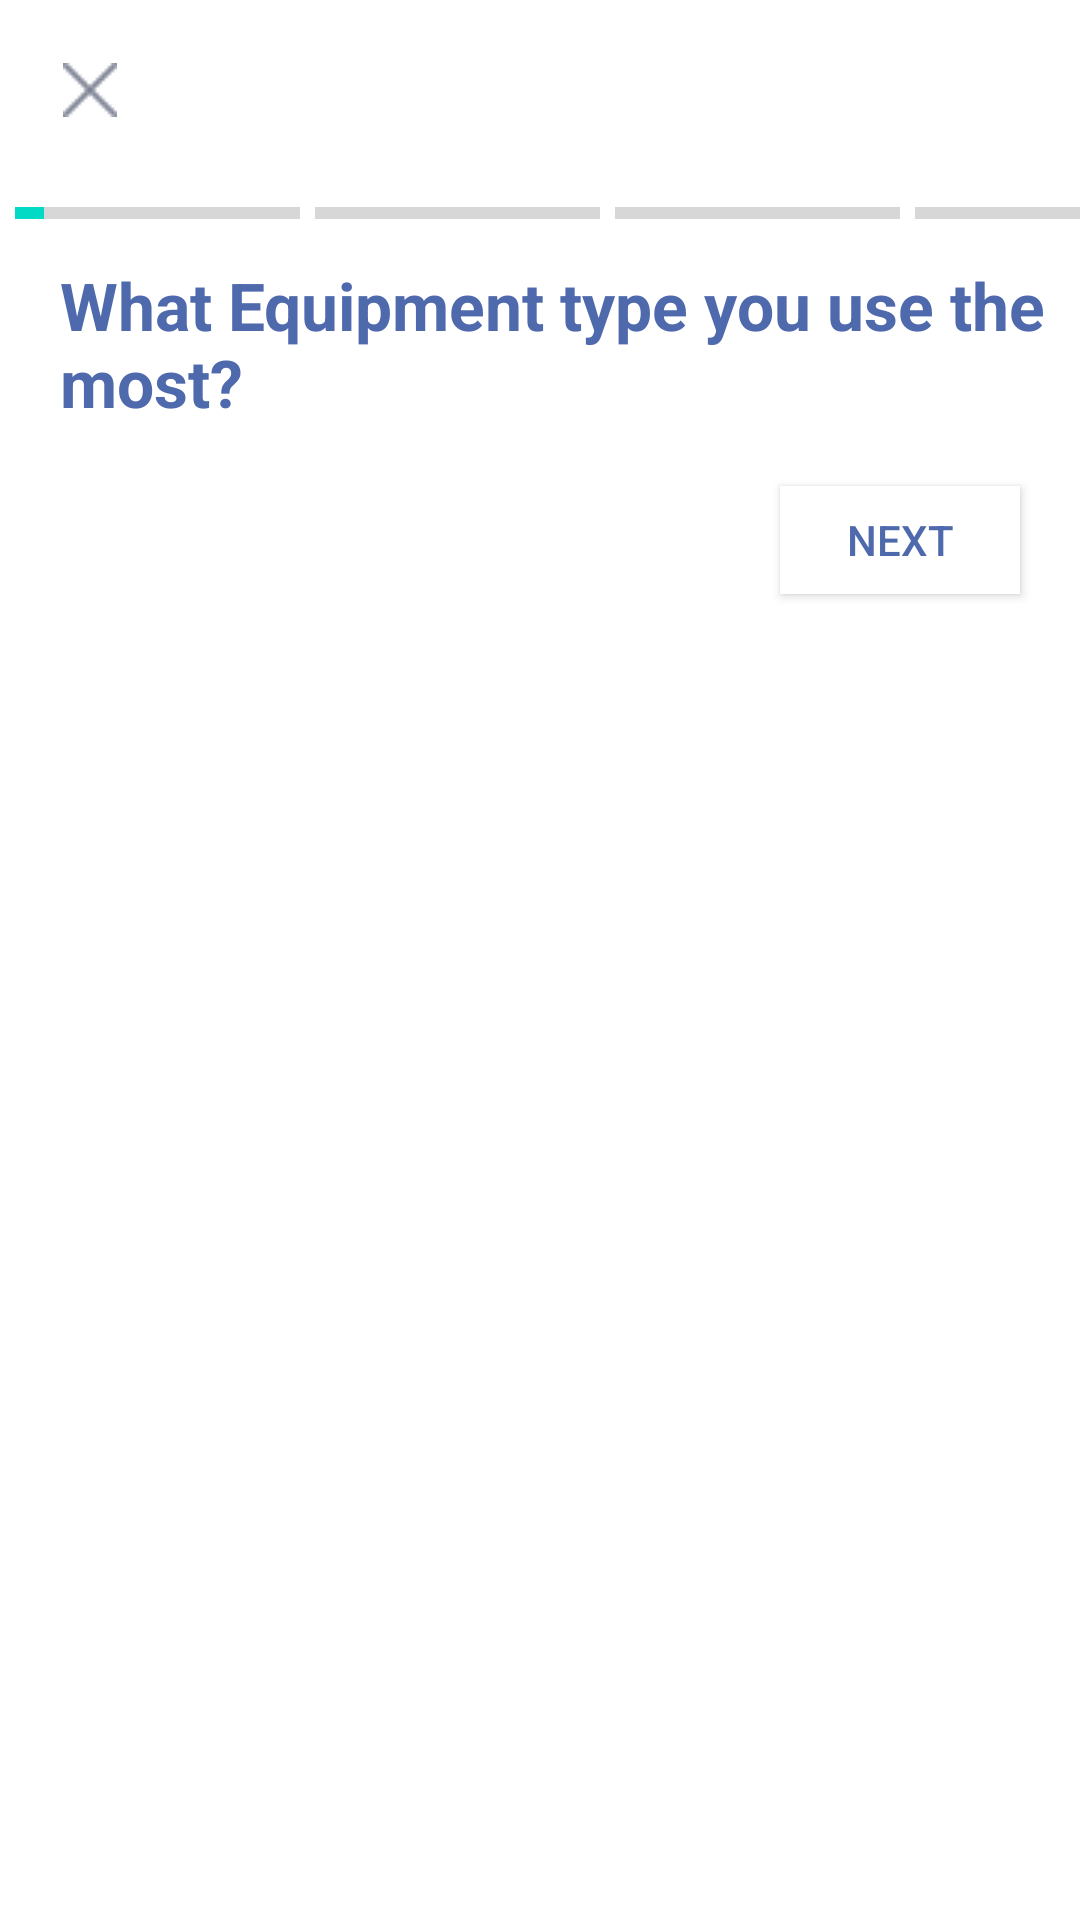

Named icons in this screenshot (1080×1920) and their bounding boxes, BBox(x1, y1, x2, y2):
close: BBox(63, 63, 117, 117)
